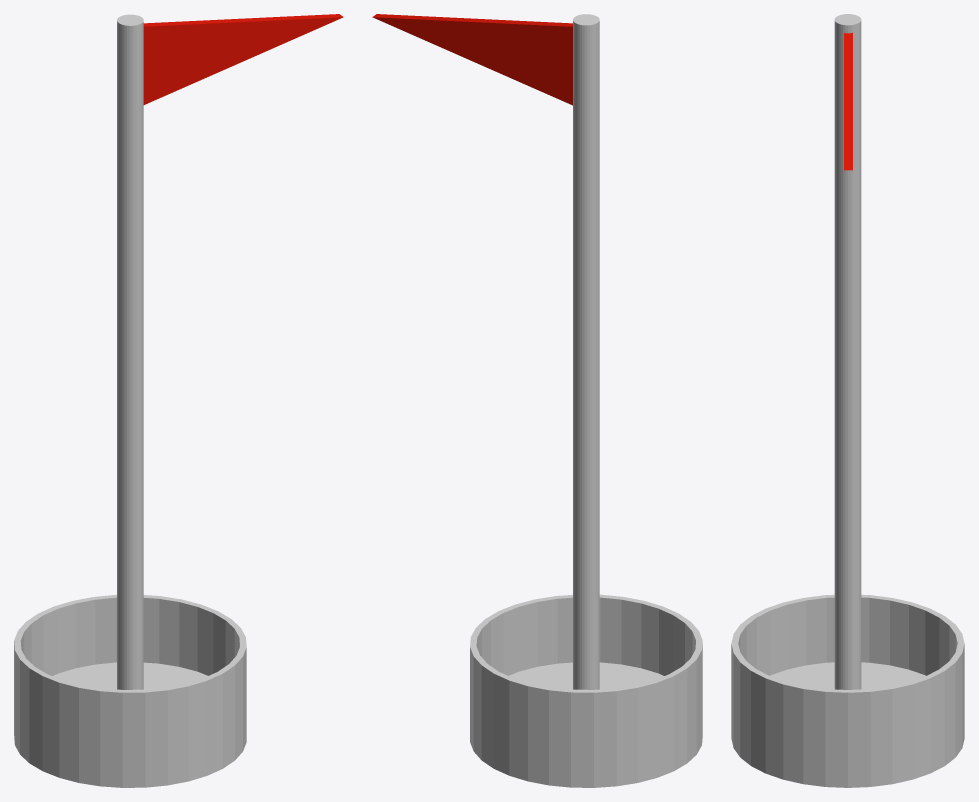
Rendered from greenWithHole.fbx.
The picture shows the model from 3 angles, left to right: view 1: azimuth 30°, elevation 25°; view 2: azimuth 150°, elevation 25°; view 3: azimuth 270°, elevation 25°; orthographic projection.
Visible parts, largest first — view 1: Cylinder, Cylinder.001, Plane.001; view 2: Cylinder, Cylinder.001, Plane.001; view 3: Cylinder, Cylinder.001, Plane.001.
Boxes of the visible parts, x1,y1,x2,y2 form: Cylinder: (14,594,246,787); Cylinder.001: (117,14,143,689); Plane.001: (143,14,343,104); Cylinder: (470,594,702,787); Cylinder.001: (573,14,599,689); Plane.001: (372,14,572,105); Cylinder: (731,594,964,787); Cylinder.001: (834,14,861,689); Plane.001: (844,32,852,170).
Size of what is drawn, in the model's own units: 135 by 296 by 86.99.
